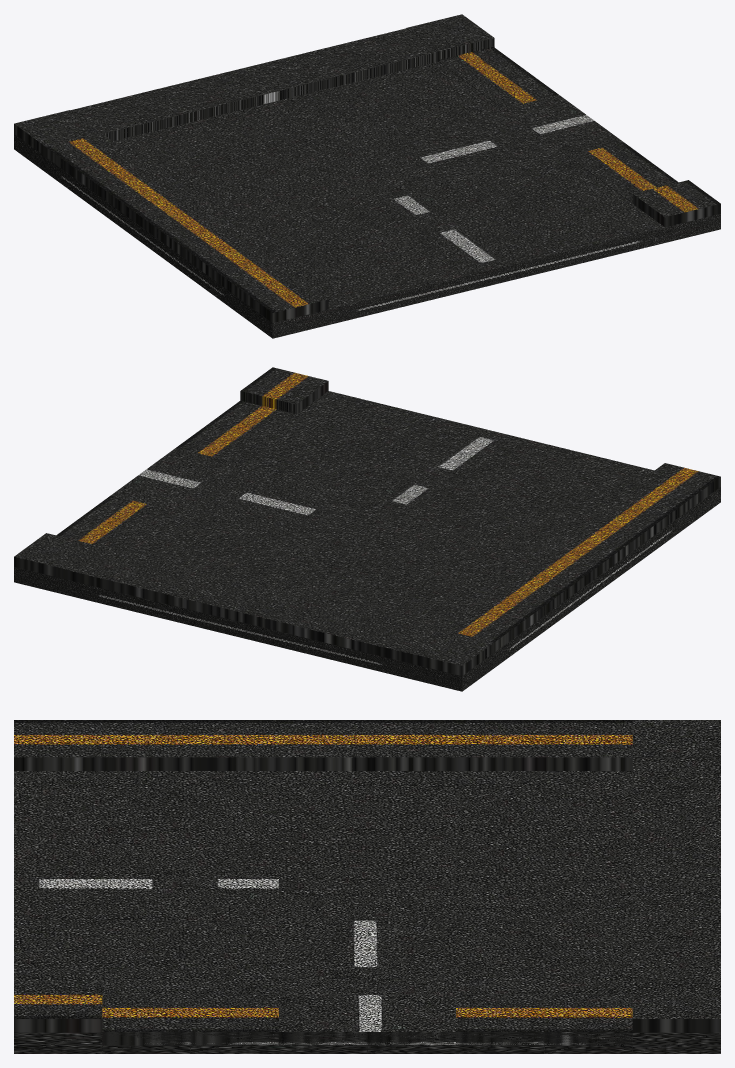
File: Road_Corner.obj
3 views of the same model, one above another, from view 1: azimuth 30°, elevation 25°; view 2: azimuth 150°, elevation 25°; view 3: azimuth 270°, elevation 25° (orthographic). The views are drawn at different scales.
Parts seen in each view (by area): view 1: Cube; view 2: Cube; view 3: Cube.
Boxes of the visible parts, x1,y1,x2,y2 form: Cube: (14,14,720,338); Cube: (14,367,720,691); Cube: (14,720,720,1053).
Size of the model in its own units: 60 by 3.28 by 60.
